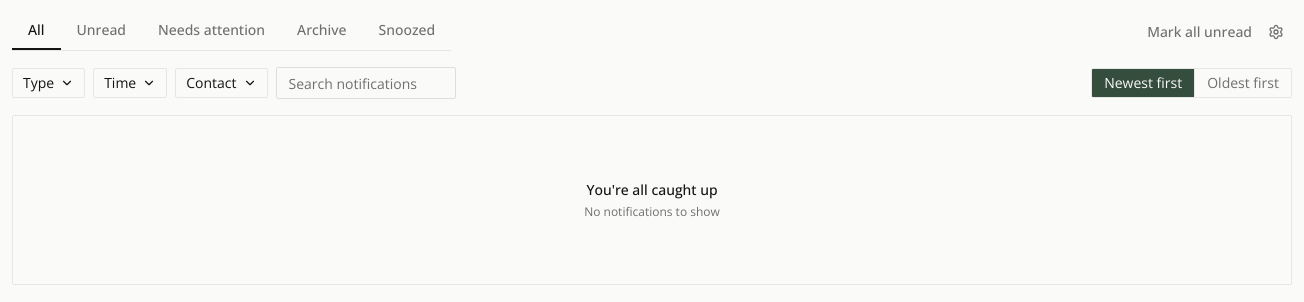
it: NotificationsPageClient — archive tab clears contact filter › switching to Archive hides the contact picker and clears any active contactId
Expected: the button with test id "notification-filter-contact" is shown, top-left (175, 68), bottom-right (268, 98)
# Switch to Archive tab
What coordinates should you click on to do the following:
click the tab with test id "page-tab-archive"
I would click on:
 (322, 31)
Its box is top-left (281, 12), bottom-right (362, 50).
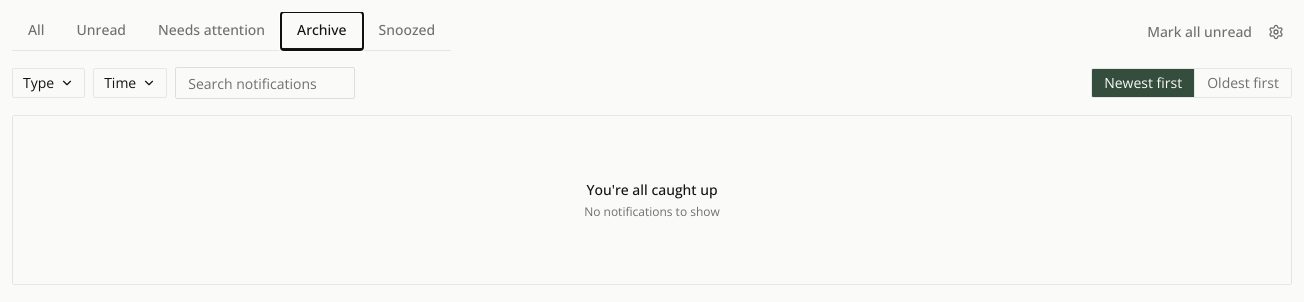
Result: the button with test id "notification-filter-contact" is gone
